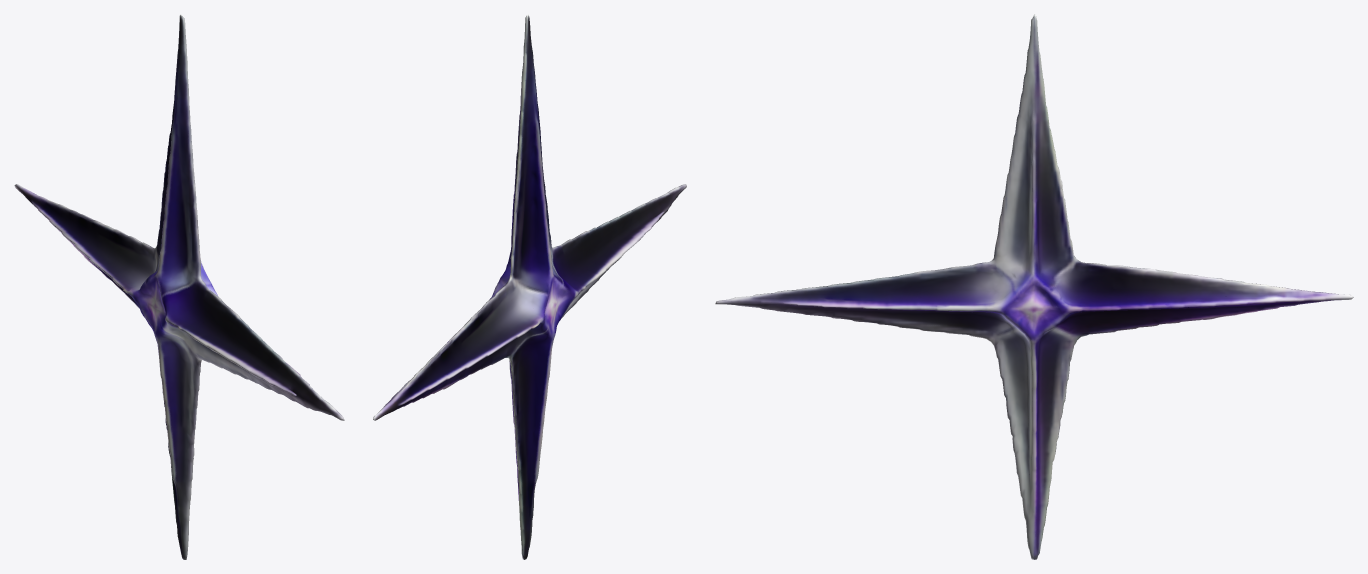
File: 3-d Star.glb
3 renders of one model, left to right at view 1: azimuth 30°, elevation 25°; view 2: azimuth 150°, elevation 25°; view 3: azimuth 270°, elevation 25°, orthographic.
Visible parts, largest first — view 1: lagrange_node; view 2: lagrange_node; view 3: lagrange_node.
Part boxes in pixels (box(x1,y1,x2,y2)): lagrange_node: box(14, 14, 344, 559); lagrange_node: box(373, 14, 686, 559); lagrange_node: box(715, 14, 1353, 559).
Size of the model in its own units: 0.2085 by 1.88 by 2.
1 material, 1 textured.
